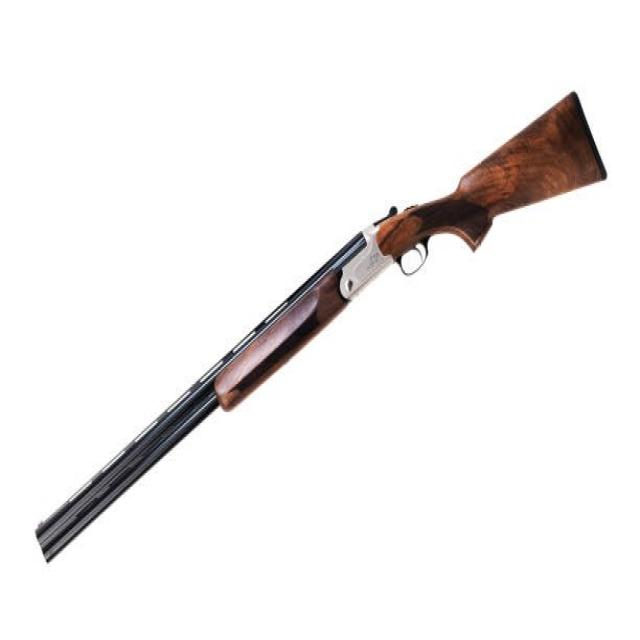rifle: (33, 86, 610, 576)
